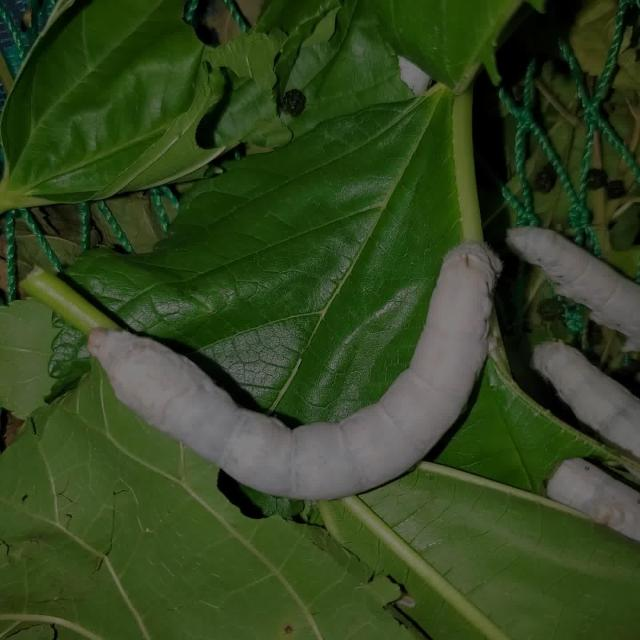Healthy: (63, 200, 509, 547)
